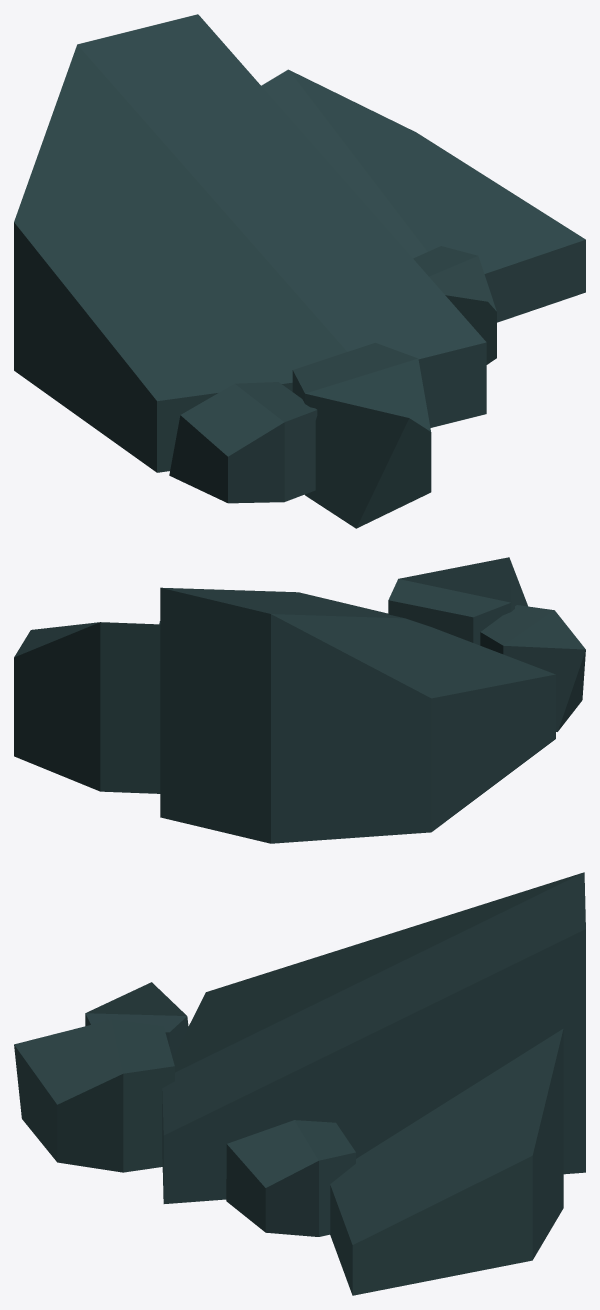
The model's file is lp_Rock_Type5_01_mesh_001_Cube_021.obj.
The picture shows the model from 3 angles, top to bottom: view 1: azimuth 30°, elevation 25°; view 2: azimuth 150°, elevation 25°; view 3: azimuth 270°, elevation 25°; orthographic projection. The views are drawn at different scales.
Parts seen in each view (by area): view 1: lp_Rock_Type5_01_mesh_001_Cube_021; view 2: lp_Rock_Type5_01_mesh_001_Cube_021; view 3: lp_Rock_Type5_01_mesh_001_Cube_021.
Part boxes in pixels (bbox=[...]): lp_Rock_Type5_01_mesh_001_Cube_021: bbox=[14, 14, 585, 528]; lp_Rock_Type5_01_mesh_001_Cube_021: bbox=[14, 557, 585, 843]; lp_Rock_Type5_01_mesh_001_Cube_021: bbox=[14, 872, 585, 1295].
Size of the model in its own units: 4.69 by 2.33 by 4.76.
